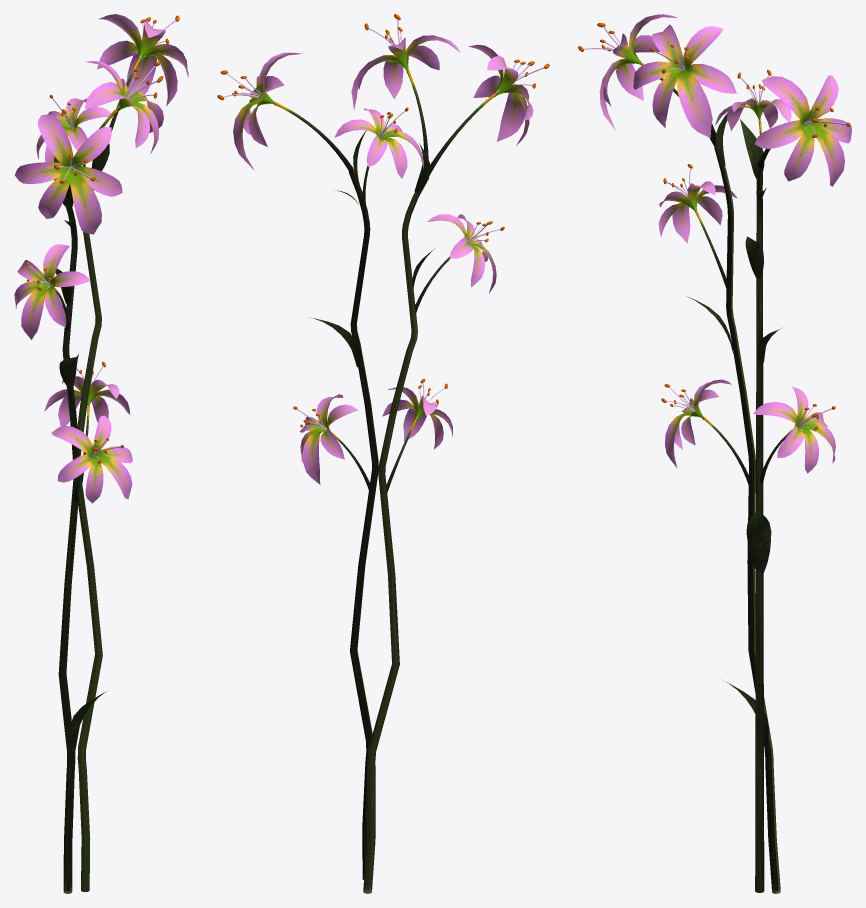
File: Lilie.fbx
3 renders of one model, left to right at view 1: azimuth 30°, elevation 25°; view 2: azimuth 150°, elevation 25°; view 3: azimuth 270°, elevation 25°, orthographic. The views are drawn at different scales.
Parts seen in each view (by area): view 1: Lili_5, base_2, base, Lili_1, Lili_4, Lili_3, Lili_2, Lili_4_2, Lili_3_2; view 2: base, base_2, Lili_5, Lili_1, Lili_2, Lili_4_2, Lili_3_2, Lili_4, Lili_3; view 3: Lili_1, Lili_2, base, base_2, Lili_5, Lili_4_2, Lili_3, Lili_4, Lili_3_2.
Part boxes in pixels (x1=…): Lili_5: x1=15, y1=114, x2=122, y2=752; base_2: x1=77, y1=189, x2=102, y2=891; base: x1=58, y1=196, x2=80, y2=893; Lili_1: x1=91, y1=14, x2=188, y2=170; Lili_4: x1=51, y1=415, x2=132, y2=503; Lili_3: x1=14, y1=244, x2=90, y2=339; Lili_2: x1=68, y1=61, x2=163, y2=192; Lili_4_2: x1=44, y1=361, x2=130, y2=482; Lili_3_2: x1=36, y1=95, x2=113, y2=166; base: x1=363, y1=178, x2=428, y2=893; base_2: x1=348, y1=170, x2=378, y2=879; Lili_5: x1=412, y1=44, x2=549, y2=289; Lili_1: x1=217, y1=52, x2=365, y2=367; Lili_2: x1=351, y1=14, x2=460, y2=159; Lili_4_2: x1=293, y1=394, x2=370, y2=491; Lili_3_2: x1=334, y1=107, x2=423, y2=209; Lili_4: x1=382, y1=378, x2=452, y2=492; Lili_3: x1=415, y1=214, x2=504, y2=312; Lili_1: x1=740, y1=75, x2=851, y2=572; Lili_2: x1=633, y1=24, x2=736, y2=144; base: x1=714, y1=147, x2=780, y2=893; base_2: x1=755, y1=166, x2=764, y2=892; Lili_5: x1=578, y1=14, x2=768, y2=747; Lili_4_2: x1=753, y1=386, x2=835, y2=483; Lili_3: x1=658, y1=164, x2=737, y2=288; Lili_4: x1=661, y1=379, x2=748, y2=485; Lili_3_2: x1=715, y1=69, x2=791, y2=184.
Bounding box in the file's own units: 45.66 × 156 × 44.98.
